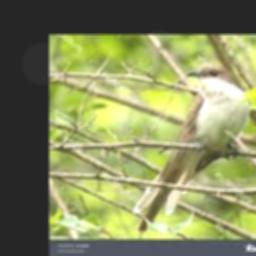Cuckoo: (133, 63, 247, 231)
